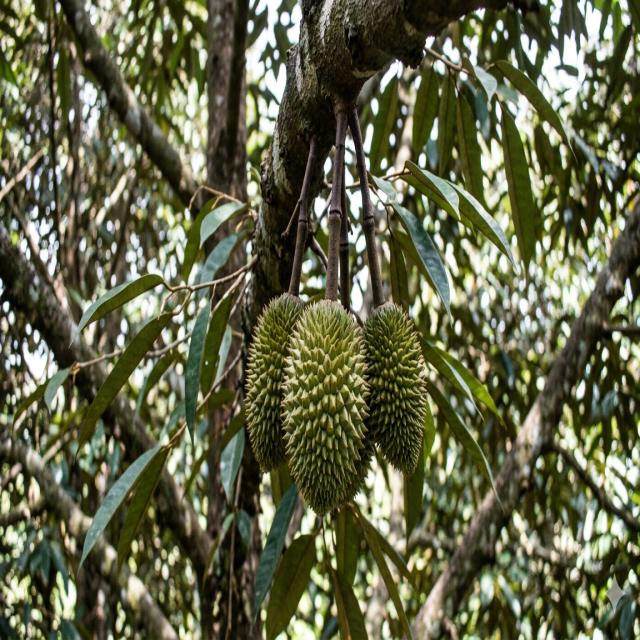immature: (279, 296, 373, 514), (359, 301, 428, 474), (244, 291, 309, 472)
